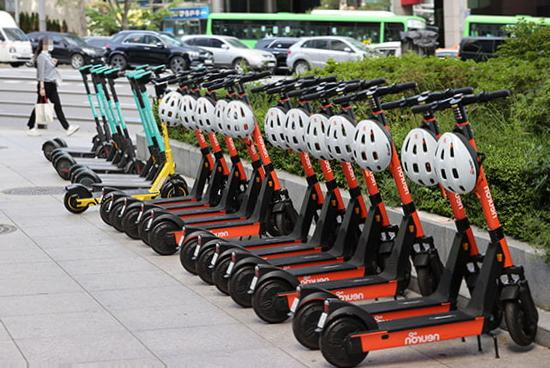scooter: (318, 89, 539, 368), (291, 86, 500, 350), (63, 71, 190, 216)
